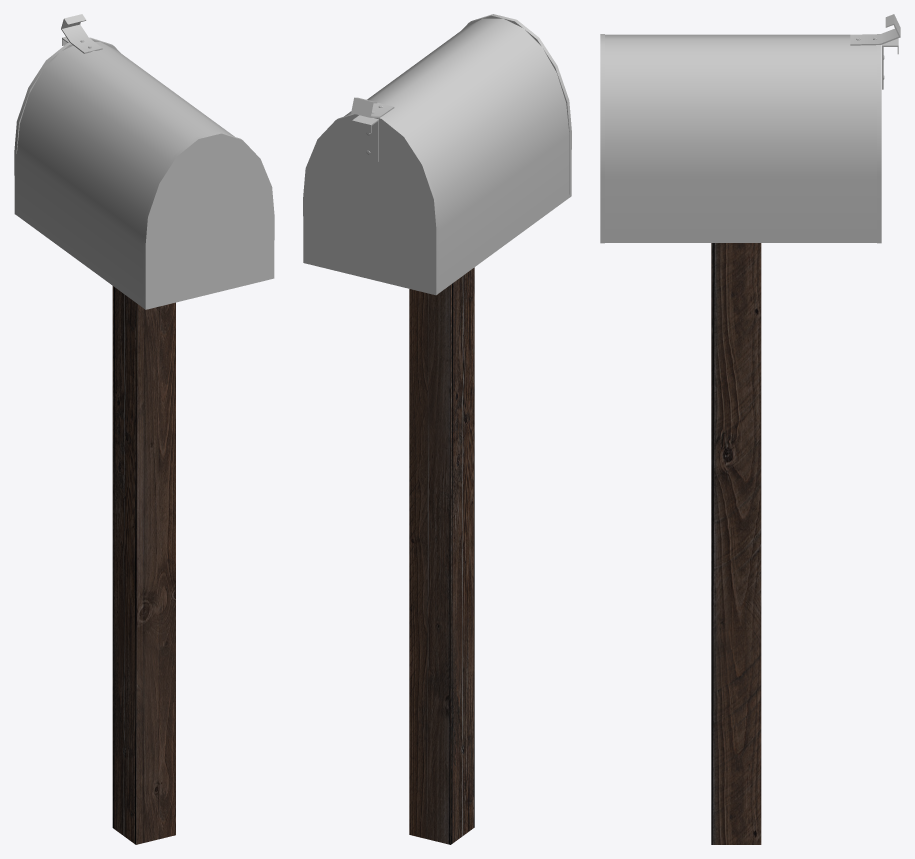
The model's file is mailbox.fbx.
The picture shows the model from 3 angles, left to right: view 1: azimuth 30°, elevation 25°; view 2: azimuth 150°, elevation 25°; view 3: azimuth 270°, elevation 25°; orthographic projection. The views are drawn at different scales.
Visible parts, largest first — view 1: post1, polySurface2, polySurface1, polySurface7, polySurface3; view 2: post1, polySurface2, polySurface3, polySurface4, polySurface1, polySurface7; view 3: polySurface2, post1, polySurface1, polySurface3, polySurface7.
Part boxes in pixels (box(x1,y1,x2,y2)): post1: box(112, 286, 175, 844); polySurface2: box(16, 42, 234, 307); polySurface1: box(143, 132, 274, 309); polySurface7: box(61, 14, 102, 53); polySurface3: box(14, 37, 120, 214); post1: box(409, 267, 474, 844); polySurface2: box(344, 18, 569, 292); polySurface3: box(303, 113, 438, 295); polySurface4: box(352, 115, 378, 161); polySurface1: box(462, 14, 571, 197); polySurface7: box(351, 97, 394, 118); polySurface2: box(605, 34, 876, 242); post1: box(711, 243, 761, 844); polySurface1: box(600, 34, 604, 243); polySurface3: box(877, 34, 881, 243); polySurface7: box(850, 14, 900, 45).
Bounding box in the file's own units: 0.7199 × 4.06 × 1.35.
